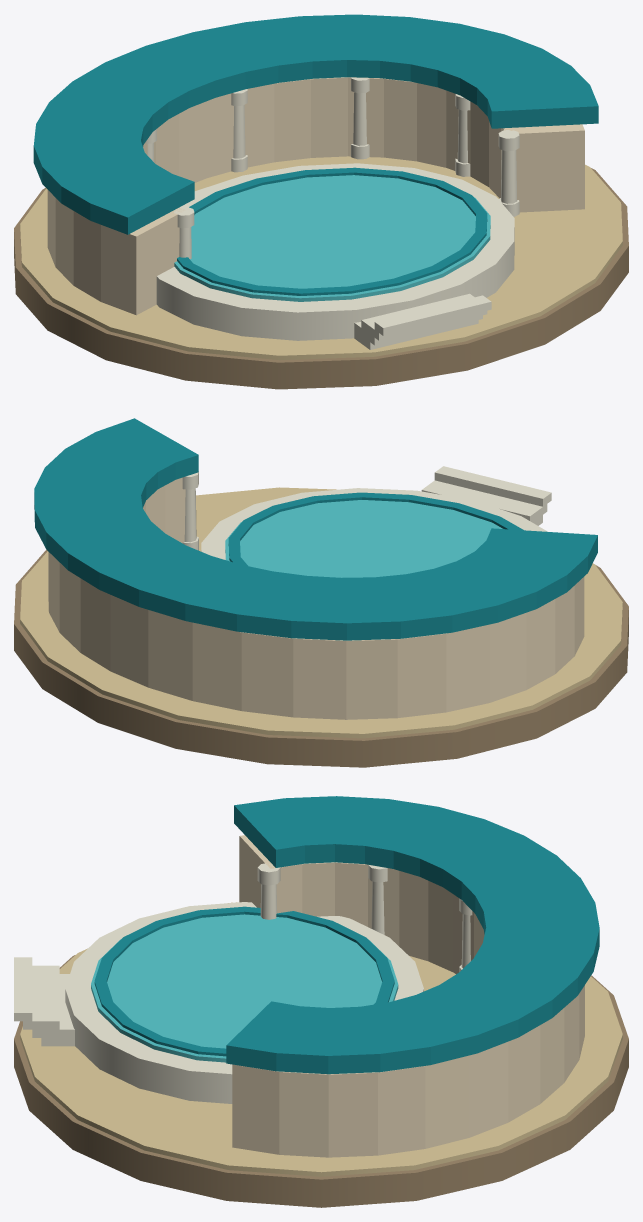
The model's file is recovery-center-lv1.glb.
The picture shows the model from 3 angles, top to bottom: view 1: azimuth 30°, elevation 25°; view 2: azimuth 150°, elevation 25°; view 3: azimuth 270°, elevation 25°; orthographic projection. The views are drawn at different scales.
Visible parts, largest first — view 1: crescent_roof_aqua, crescent_bathhouse_cream, water_pool, foundation_sand, foundation_stoneDark, pool_terrace_white, pool_mosaic_aqua, body_white, pool_steps_white; view 2: crescent_roof_aqua, crescent_bathhouse_cream, foundation_sand, foundation_stoneDark, water_pool, pool_steps_white, pool_terrace_white, pool_mosaic_aqua, body_white; view 3: crescent_roof_aqua, crescent_bathhouse_cream, water_pool, foundation_sand, foundation_stoneDark, pool_terrace_white, pool_mosaic_aqua, pool_steps_white, body_white.
Part boxes in pixels (<box>): crescent_roof_aqua: <box>33,14,598,234</box>; crescent_bathhouse_cream: <box>47,77,584,315</box>; water_pool: <box>174,175,490,301</box>; foundation_sand: <box>20,156,622,360</box>; foundation_stoneDark: <box>14,168,628,389</box>; pool_terrace_white: <box>156,163,514,340</box>; pool_mosaic_aqua: <box>177,167,487,295</box>; body_white: <box>146,77,519,259</box>; pool_steps_white: <box>354,293,491,349</box>; crescent_roof_aqua: <box>34,418,597,640</box>; crescent_bathhouse_cream: <box>48,477,584,719</box>; foundation_sand: <box>20,487,622,738</box>; foundation_stoneDark: <box>14,549,628,767</box>; water_pool: <box>225,500,502,577</box>; pool_steps_white: <box>421,466,551,525</box>; pool_terrace_white: <box>201,488,547,559</box>; pool_mosaic_aqua: <box>228,492,523,565</box>; body_white: <box>182,471,198,550</box>; crescent_roof_aqua: <box>226,796,599,1074</box>; crescent_bathhouse_cream: <box>232,835,584,1157</box>; water_pool: <box>91,914,398,1062</box>; foundation_sand: <box>20,902,622,1176</box>; foundation_stoneDark: <box>14,955,628,1207</box>; pool_terrace_white: <box>65,902,423,1103</box>; pool_mosaic_aqua: <box>94,906,394,1056</box>; pool_steps_white: <box>14,957,74,1046</box>; body_white: <box>257,863,472,971</box>.
Bounding box in the file's own units: 1 × 0.2335 × 0.9231.
